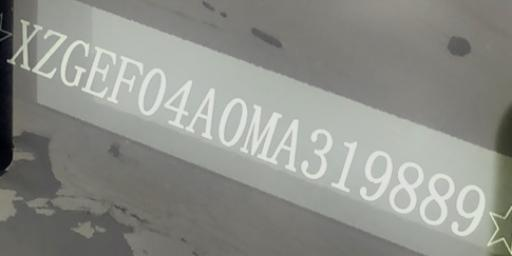letter: (238, 103, 284, 161), (418, 170, 456, 227), (4, 18, 44, 71), (80, 45, 118, 98), (106, 54, 146, 103), (30, 28, 68, 79), (358, 148, 394, 201), (387, 160, 423, 213), (450, 182, 486, 235), (300, 127, 334, 181), (184, 86, 216, 142), (329, 135, 359, 194), (269, 115, 299, 173), (162, 76, 194, 128), (58, 37, 90, 86), (218, 95, 248, 147), (137, 67, 167, 116)
